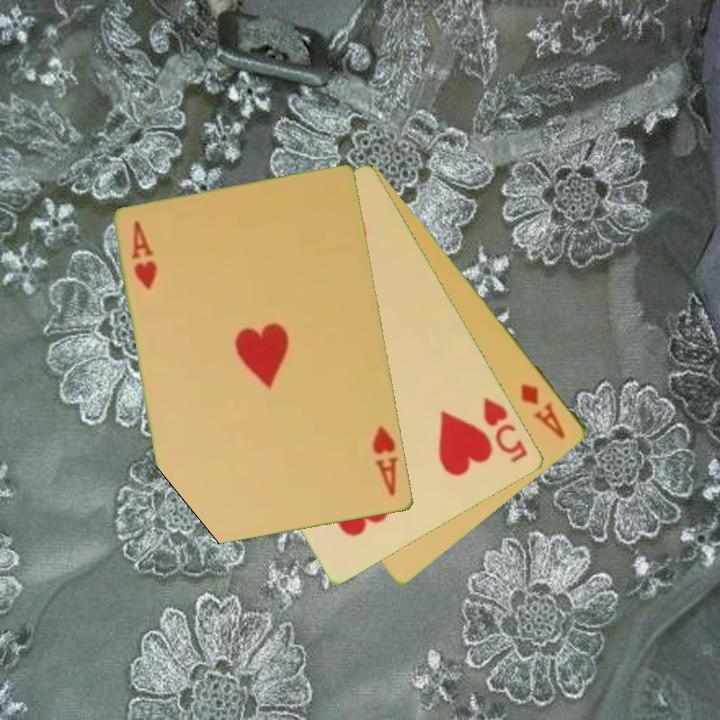5h: (480, 394, 531, 466)
Ad: (517, 380, 569, 443)
Ah: (369, 422, 402, 500), (128, 218, 161, 293)
